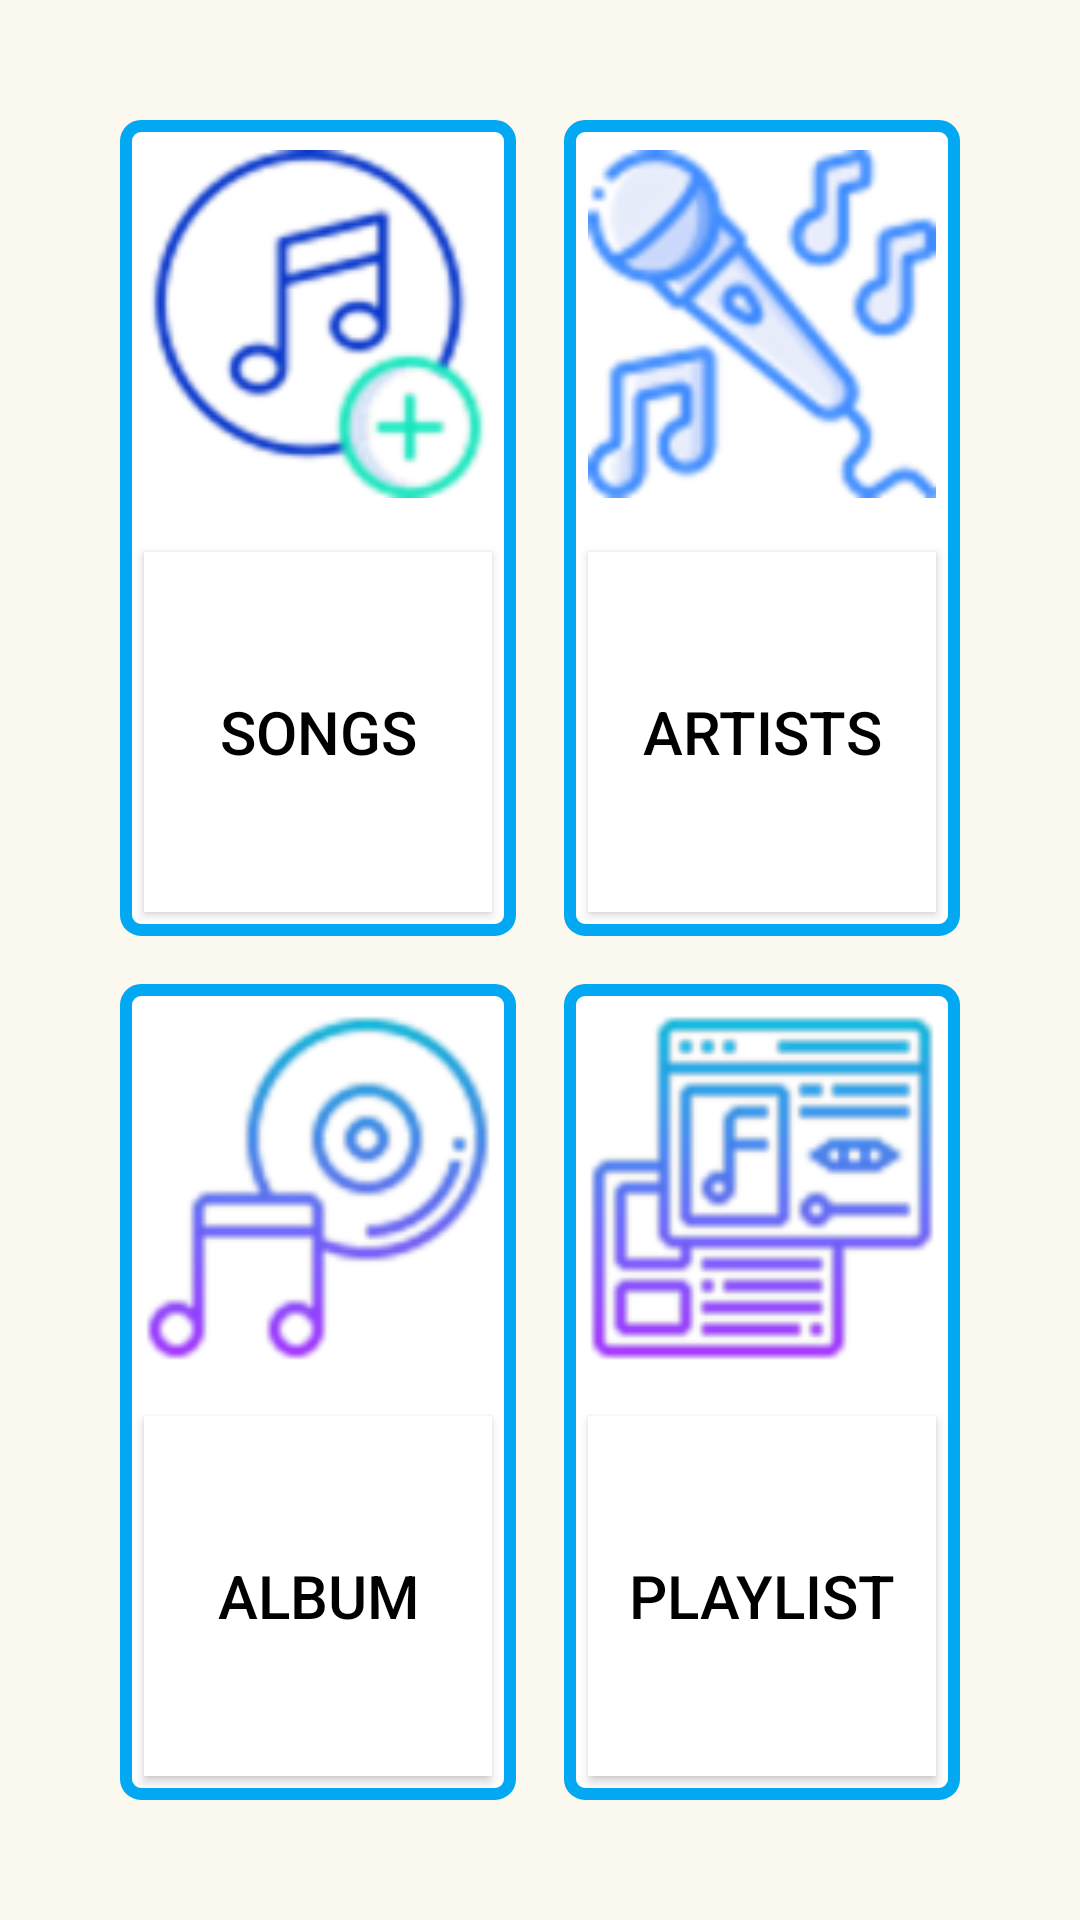

Where icons sit on this 1080x1920 app screen, as (x1, y1, x2, y2):
disc: (147, 1017, 489, 1359)
karaoke: (588, 150, 936, 498)
music: (152, 150, 484, 498)
